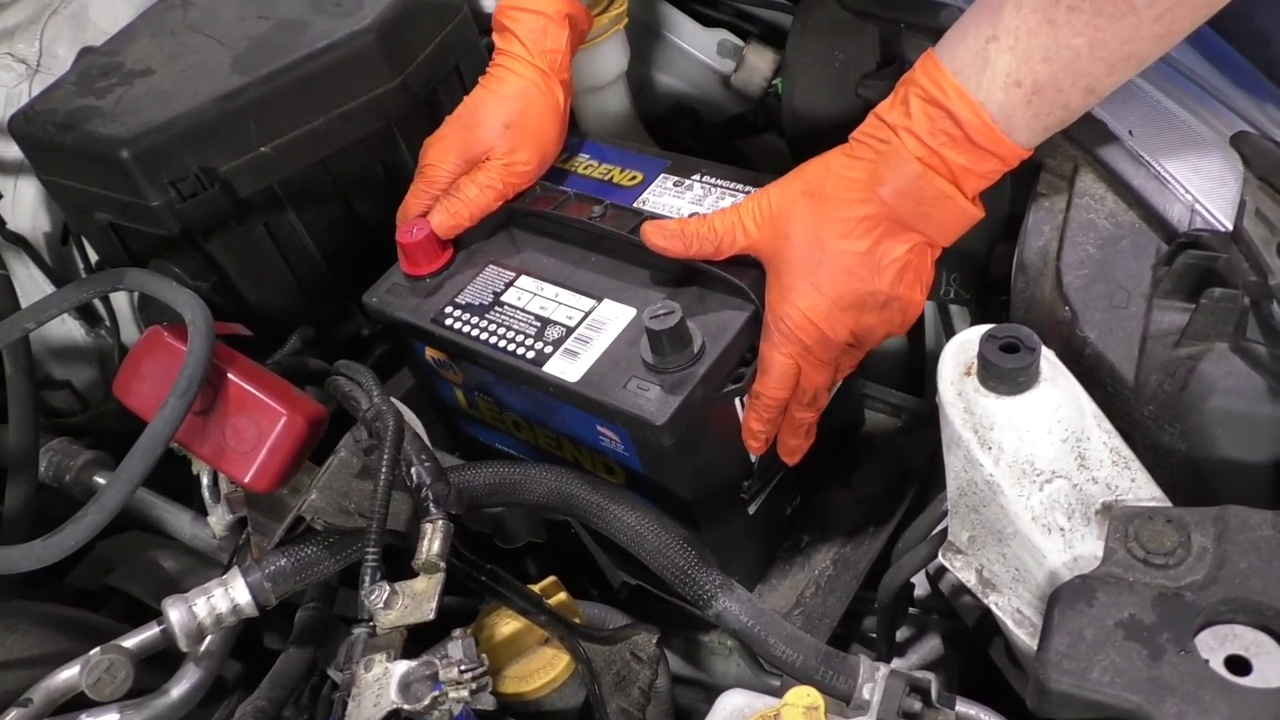battery: (360, 114, 801, 453)
pos_touched: (371, 137, 520, 298)
